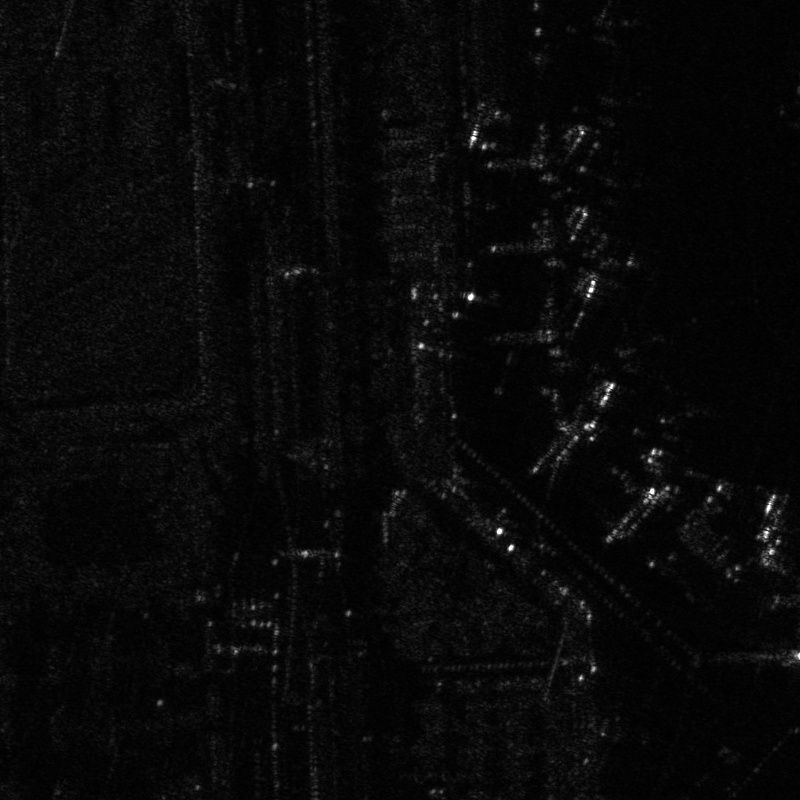A220: (615, 306, 715, 396)
